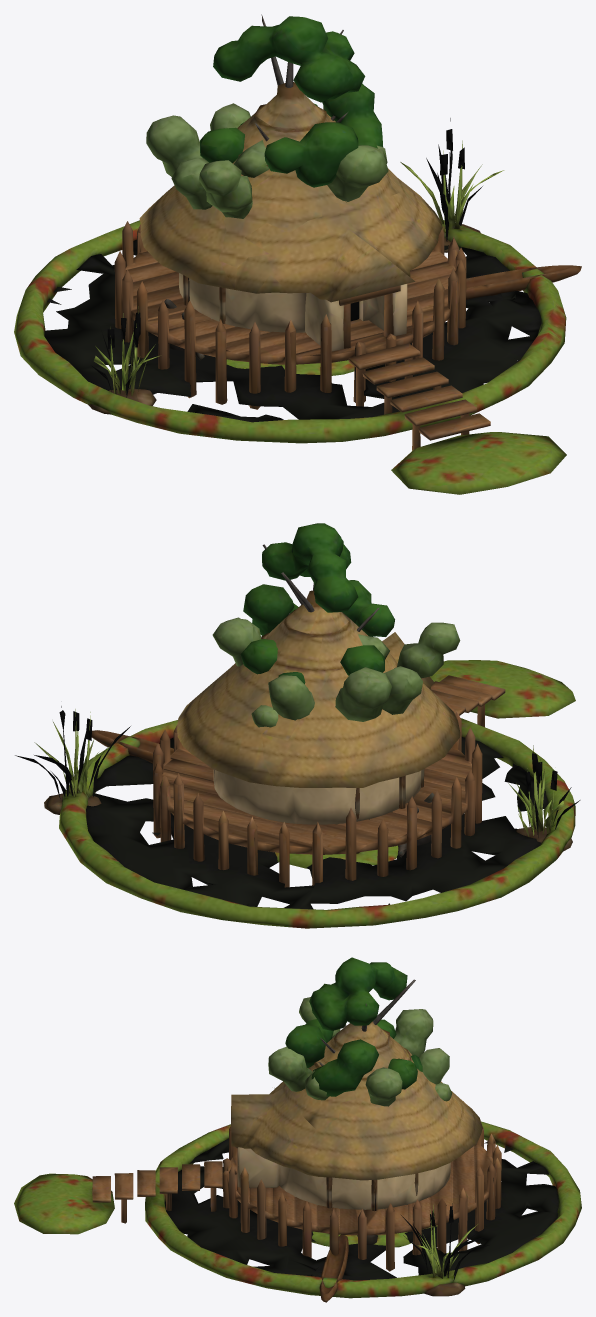
File: iron_decor_bog.glb
The picture shows the model from 3 angles, top to bottom: view 1: azimuth 30°, elevation 25°; view 2: azimuth 150°, elevation 25°; view 3: azimuth 270°, elevation 25°; orthographic projection. The views are drawn at different scales.
Visible parts, largest first — view 1: Crannog, Alder, Willow_A, Idol; view 2: Crannog, Alder, Willow_A, Idol; view 3: Crannog, Alder, Willow_A, Idol.
Part boxes in pixels (x1,y1,x2,y2): Crannog: (14, 82, 581, 494); Alder: (200, 14, 383, 187); Willow_A: (146, 103, 388, 218); Idol: (183, 275, 354, 375); Crannog: (15, 590, 580, 928); Alder: (240, 523, 394, 684); Willow_A: (212, 617, 460, 721); Idol: (214, 769, 424, 868); Crannog: (14, 1021, 581, 1302); Alder: (285, 957, 422, 1096); Willow_A: (268, 997, 449, 1106); Idol: (312, 1173, 437, 1247).
Bounding box in the file's own units: 5.02 × 3.12 × 6.1.
1 material, 1 textured.
